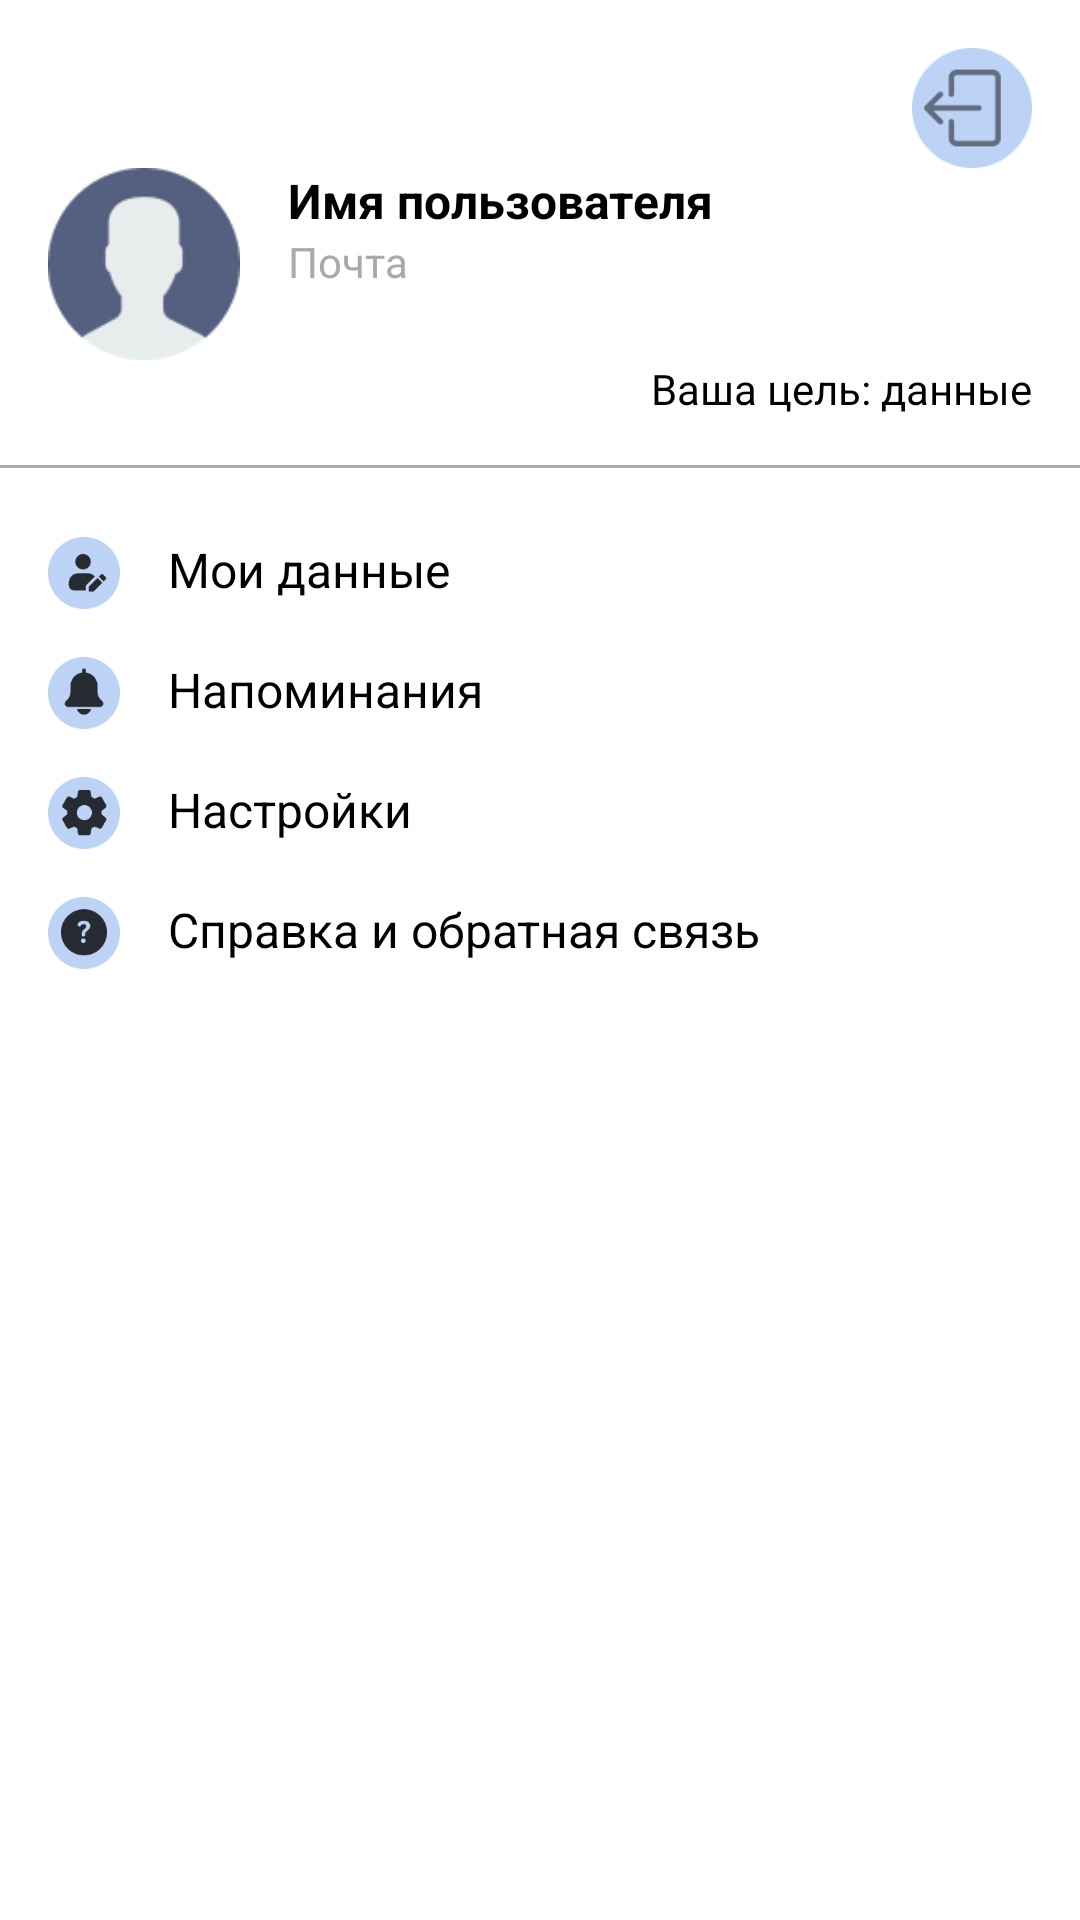

Icon bounding boxes for this 1080 x 1920 phone screenshot, format {"x1": x1, "y1": y1, "x2": x2, "y2": y2}:
Help icon: {"x1": 48, "y1": 897, "x2": 120, "y2": 969}
My data icon: {"x1": 48, "y1": 537, "x2": 120, "y2": 609}
Reminders icon: {"x1": 48, "y1": 657, "x2": 120, "y2": 729}
Settings icon: {"x1": 48, "y1": 777, "x2": 120, "y2": 849}
